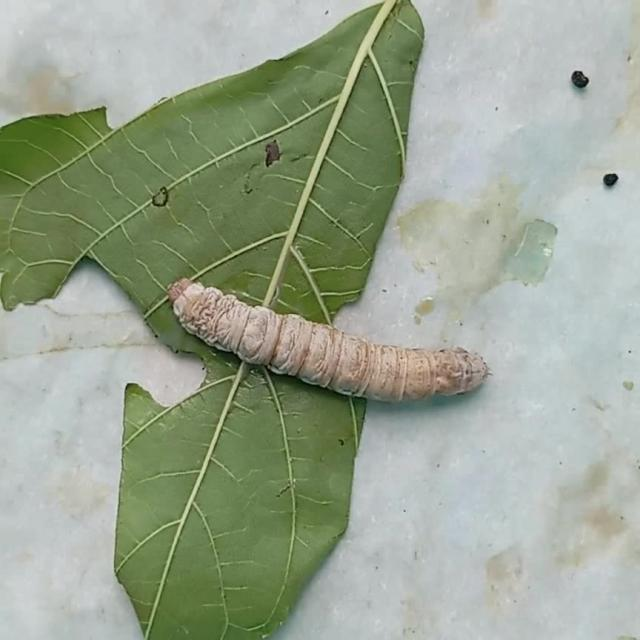Grasserie: (149, 263, 510, 414)
